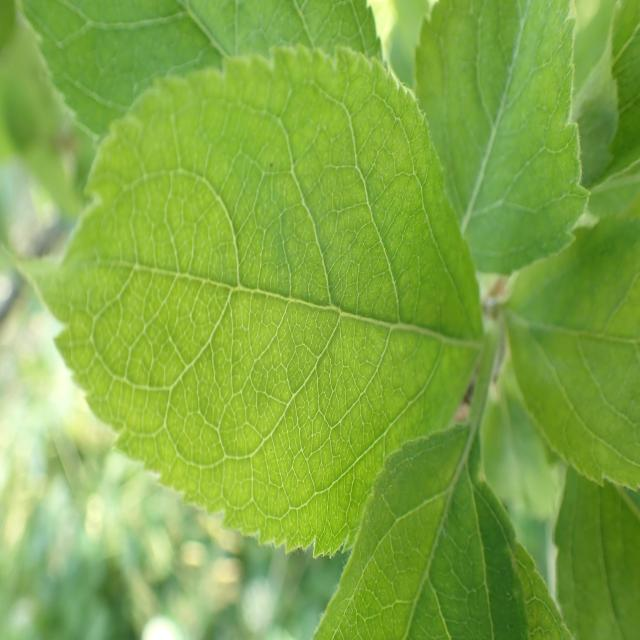healthy: (9, 44, 485, 559), (310, 420, 574, 640), (18, 0, 384, 142), (414, 0, 589, 275), (501, 210, 640, 490), (552, 464, 640, 640)
